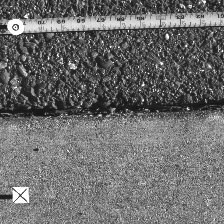circle: (7, 18, 24, 35)
crack: (1, 99, 223, 120)
square: (12, 187, 29, 203)
